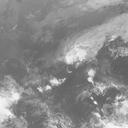cyclone: (61, 40, 96, 67)
